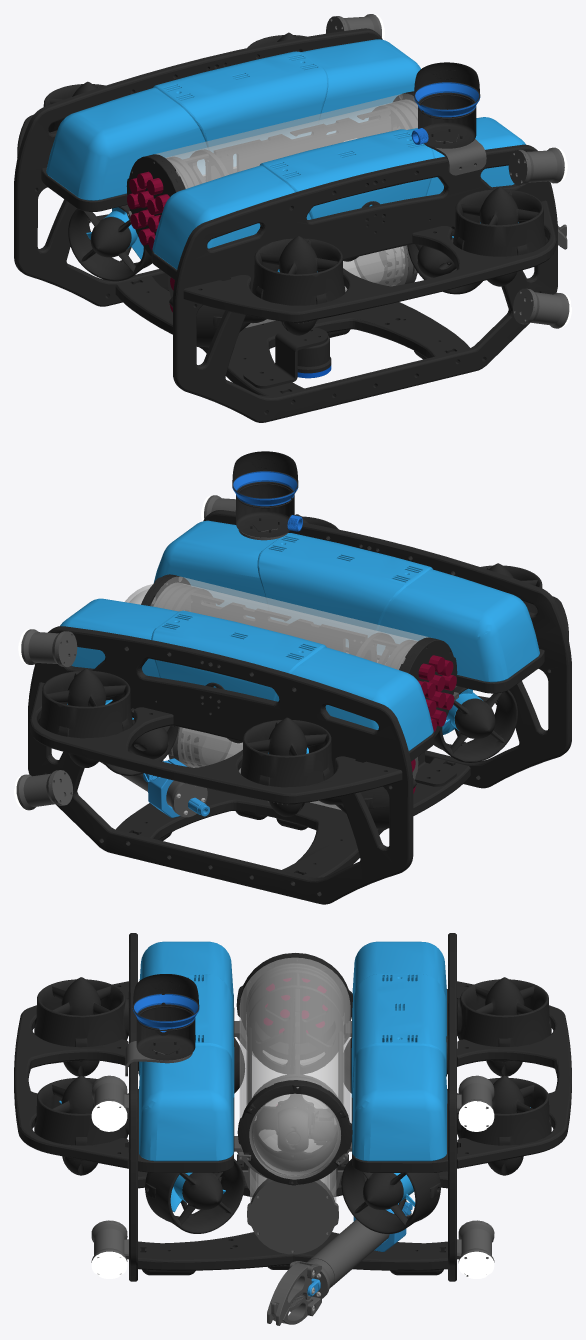
The model's file is bluerov.glb.
3 views of the same model, one above another, from view 1: azimuth 30°, elevation 25°; view 2: azimuth 150°, elevation 25°; view 3: azimuth 270°, elevation 25° (orthographic).
Visible parts, largest first — view 1: BROV2-HEAVY-ASM-BROV2-HEAVY-R1.013, HEAVY_KIT, PING360, motor7.heavy, motor5.heavy, motor4, PING-ASM-R3-PUBLIC, LIGHT-UP, LIGHT_DOWN, motor1, motor3, motor8.heavy; view 2: BROV2-HEAVY-ASM-BROV2-HEAVY-R1.013, HEAVY_KIT, motor8.heavy, motor6.heavy, PING360, motor3, LIGHT-UP, NEWTON_GRIPPER, LIGHT_DOWN, motor2, motor4, PING-ASM-R3-PUBLIC (+1 smaller); view 3: BROV2-HEAVY-ASM-BROV2-HEAVY-R1.013, HEAVY_KIT, motor7.heavy, motor8.heavy, NEWTON_GRIPPER, PING360, motor1, motor2, motor5.heavy, motor6.heavy, LIGHT_DOWN, LIGHT-UP (+1 smaller).
Boxes of the visible parts, box(x1,y1,x2,y2) form: BROV2-HEAVY-ASM-BROV2-HEAVY-R1.013: box(14, 28, 557, 422); HEAVY_KIT: box(17, 51, 556, 322); PING360: box(411, 62, 486, 175); motor7.heavy: box(252, 236, 345, 335); motor5.heavy: box(453, 187, 546, 286); motor4: box(68, 205, 152, 281); PING-ASM-R3-PUBLIC: box(243, 327, 331, 388); LIGHT-UP: box(326, 14, 567, 185); LIGHT_DOWN: box(513, 288, 571, 328); motor1: box(407, 236, 482, 294); motor3: box(169, 297, 266, 347); motor8.heavy: box(43, 81, 105, 132); BROV2-HEAVY-ASM-BROV2-HEAVY-R1.013: box(28, 510, 571, 904); HEAVY_KIT: box(29, 533, 568, 804); motor8.heavy: box(240, 717, 333, 816); motor6.heavy: box(39, 668, 132, 767); PING360: box(232, 451, 302, 540); motor3: box(433, 686, 517, 762); LIGHT-UP: box(18, 495, 235, 666); NEWTON_GRIPPER: box(100, 758, 209, 817); LIGHT_DOWN: box(14, 770, 72, 810); motor2: box(103, 717, 178, 775); motor4: box(319, 778, 416, 828); PING-ASM-R3-PUBLIC: box(415, 752, 456, 786); BROV2-HEAVY-ASM-BROV2-HEAVY-R1.013: box(129, 933, 456, 1281); HEAVY_KIT: box(14, 973, 571, 1168); motor7.heavy: box(34, 977, 128, 1076); motor8.heavy: box(457, 977, 551, 1076); NEWTON_GRIPPER: box(267, 1200, 412, 1325); PING360: box(125, 974, 199, 1076); motor1: box(145, 1159, 244, 1233); motor2: box(341, 1159, 440, 1233); motor5.heavy: box(34, 1075, 128, 1175); motor6.heavy: box(457, 1075, 551, 1175); LIGHT_DOWN: box(91, 1220, 494, 1278); LIGHT-UP: box(91, 1075, 494, 1131).
Size of the model in its own units: 0.553 by 0.3281 by 0.5727.
